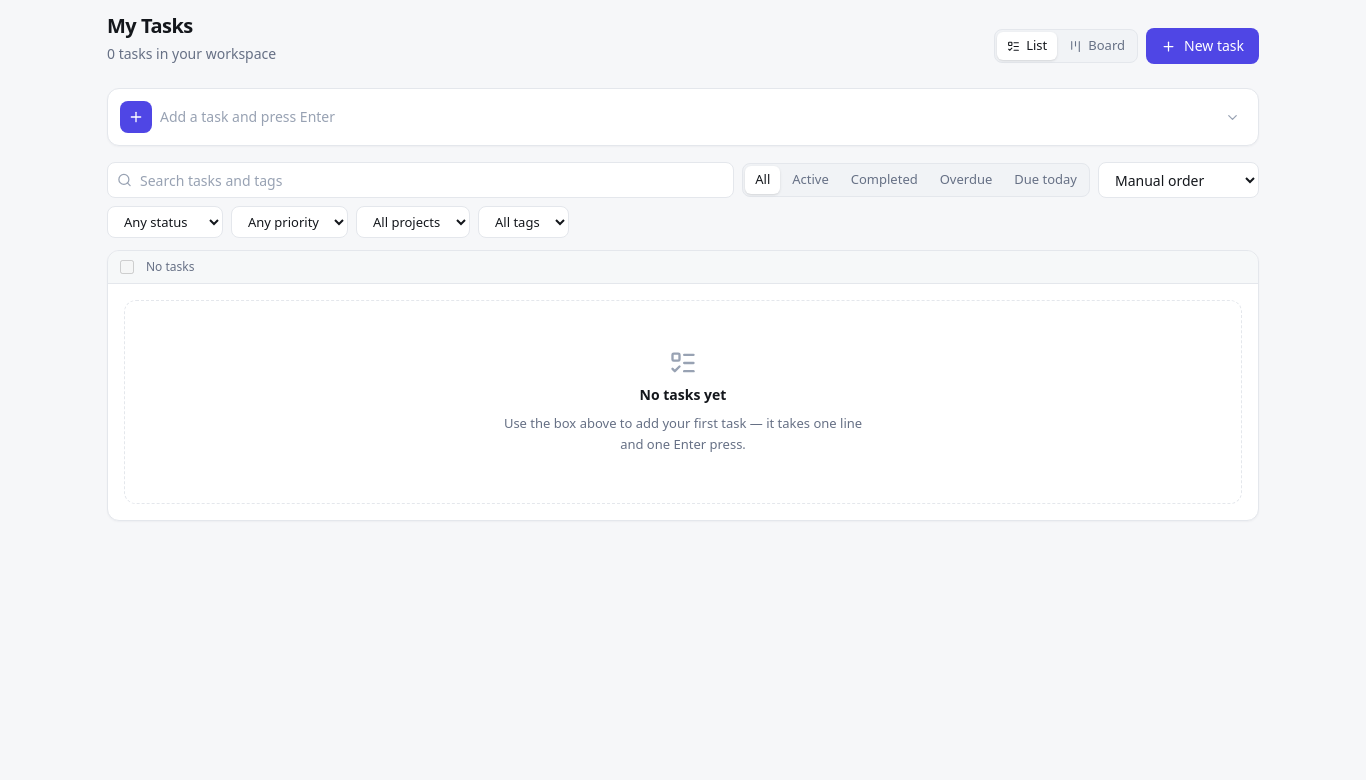
Test: quick add (G1) › creates a task from a single input
The width and height of the screenshot is (1366, 780).
Type "Buy groceries" into the field named "Quick add task" at (686, 117), box [160,107,1211,127]
Then press Enter
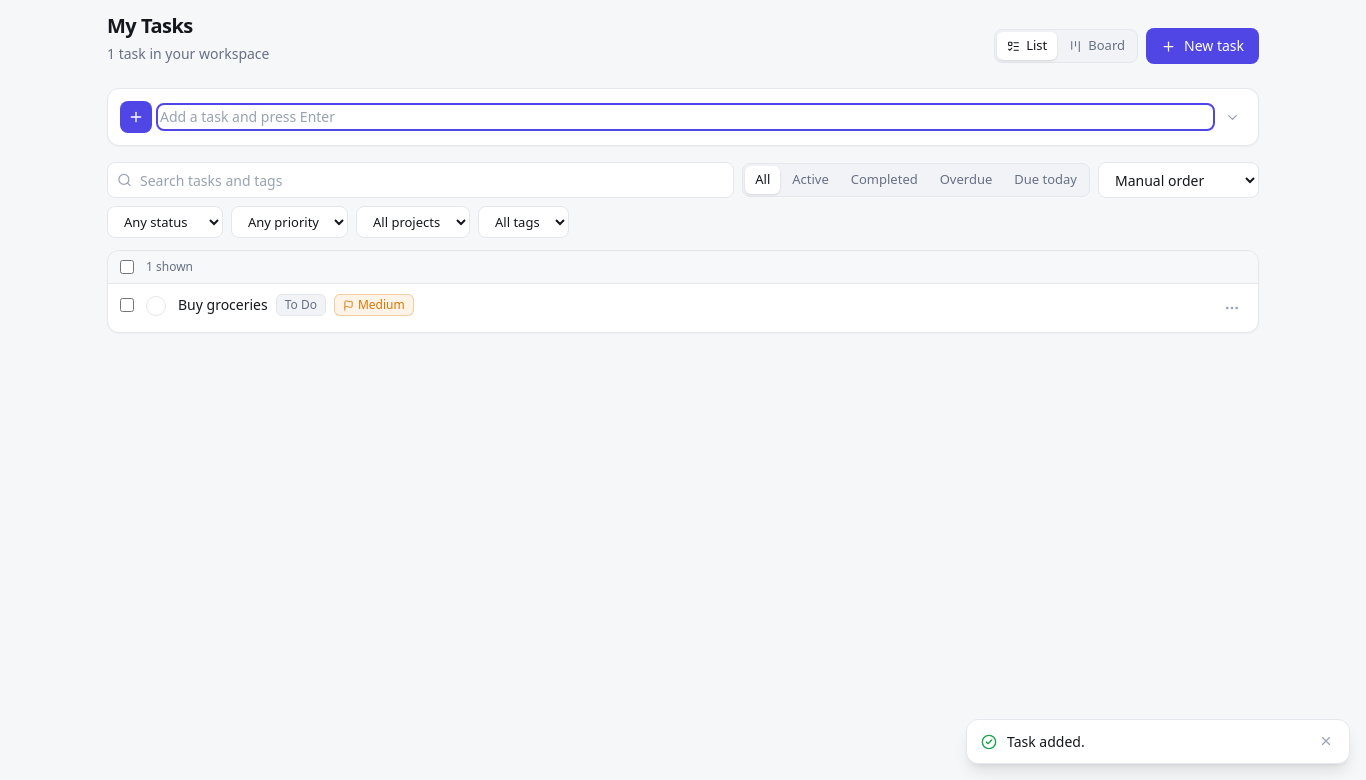
Expected: the button "Buy groceries" is shown, [178,295,268,315]
